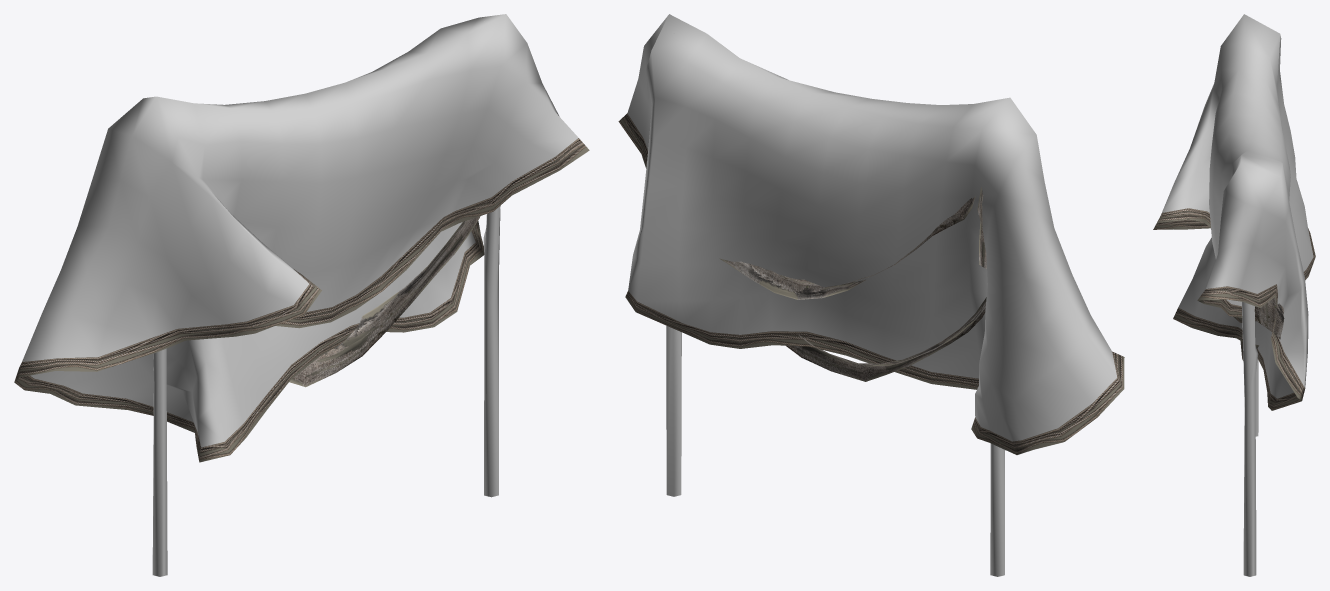
File: Fishnet2.fbx
3 views of the same model, side by side, from view 1: azimuth 30°, elevation 25°; view 2: azimuth 150°, elevation 25°; view 3: azimuth 270°, elevation 25° (orthographic). The views are drawn at different scales.
Parts seen in each view (by area): view 1: polySurface1196; view 2: polySurface1196; view 3: polySurface1196.
Part boxes in pixels (x1,y1,x2,y2): polySurface1196: (14,14,589,576); polySurface1196: (618,14,1124,576); polySurface1196: (1153,14,1315,576).
Bounding box in the file's own units: 7.76 × 6.69 × 2.37.
